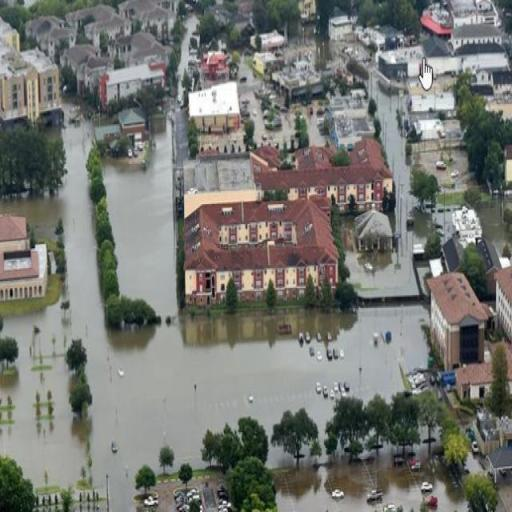flood: (0, 103, 430, 512), (346, 77, 422, 300), (267, 446, 468, 512), (178, 14, 199, 102)
house: (188, 191, 340, 308), (428, 275, 488, 376), (0, 50, 62, 120), (0, 217, 48, 304), (345, 140, 396, 217), (188, 83, 240, 137), (108, 106, 151, 166), (100, 65, 164, 105), (354, 208, 392, 263), (378, 43, 424, 83), (452, 24, 504, 48), (495, 268, 512, 339), (440, 236, 467, 272), (32, 480, 63, 510), (327, 13, 352, 47), (481, 239, 506, 270), (30, 16, 64, 38), (119, 0, 158, 19), (0, 17, 23, 48), (67, 44, 93, 69)
